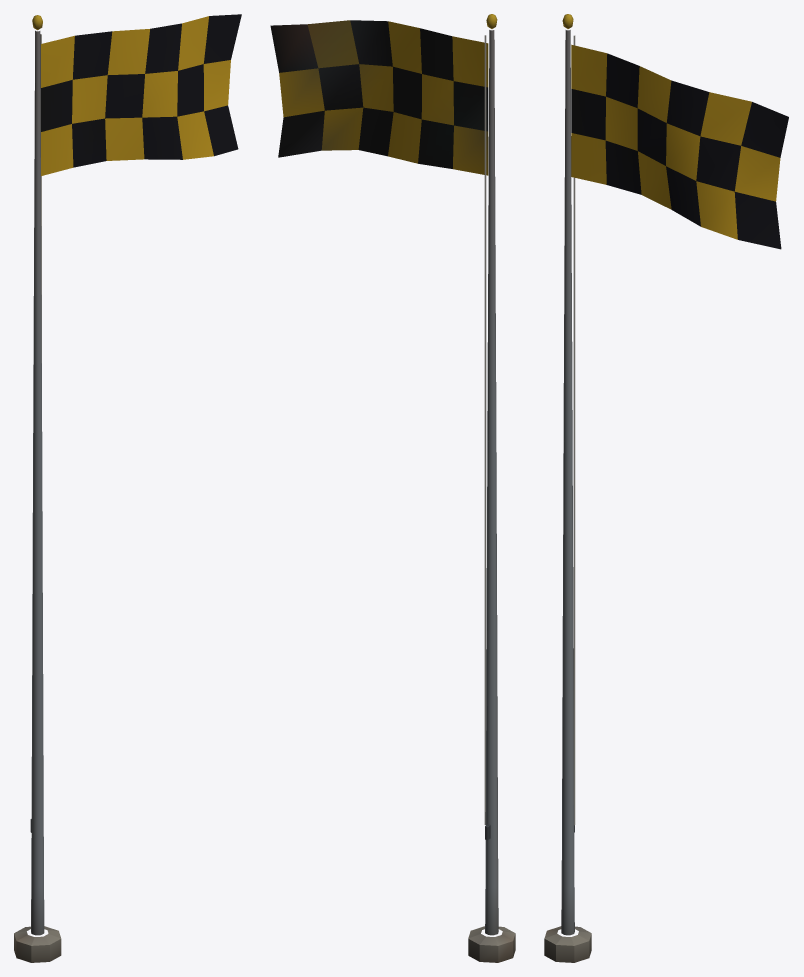
The model's file is flag_pole.glb.
The picture shows the model from 3 angles, left to right: view 1: azimuth 30°, elevation 25°; view 2: azimuth 150°, elevation 25°; view 3: azimuth 330°, elevation 25°; orthographic projection.
Visible parts, largest first — view 1: FlagPole; view 2: FlagPole; view 3: FlagPole.
Part boxes in pixels (<box>): FlagPole: <box>14,14,241,962</box>; FlagPole: <box>270,14,515,962</box>; FlagPole: <box>544,14,788,962</box>.
Bounding box in the file's own units: 2.87 × 11 × 0.52.
